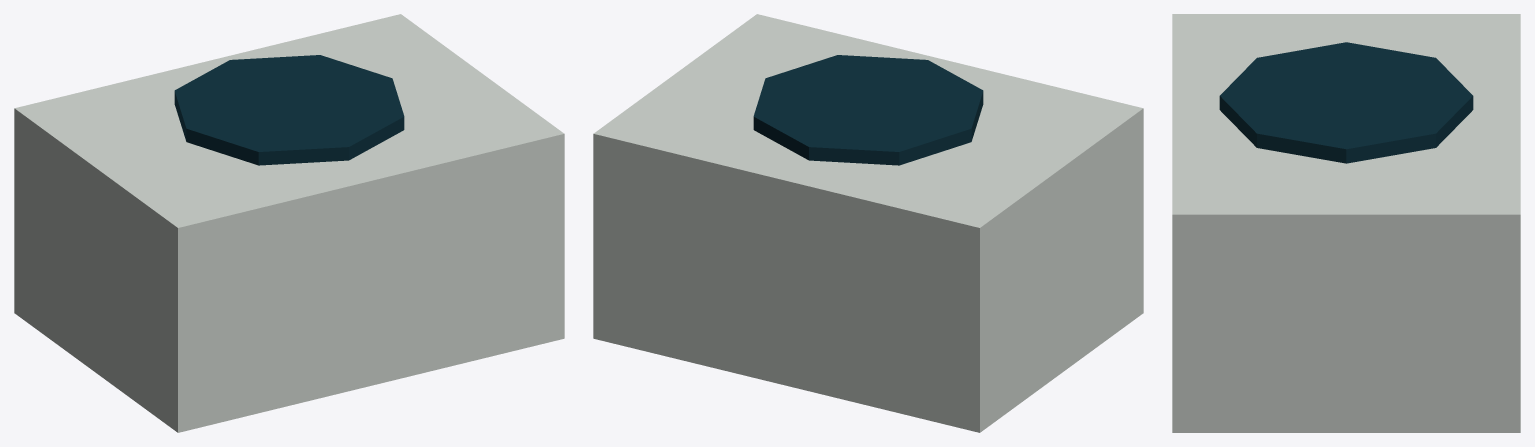
File: aircon.glb
The picture shows the model from 3 angles, left to right: view 1: azimuth 30°, elevation 25°; view 2: azimuth 150°, elevation 25°; view 3: azimuth 270°, elevation 25°; orthographic projection. The views are drawn at different scales.
Visible parts, largest first — view 1: aircon; view 2: aircon; view 3: aircon.
Part boxes in pixels (x1,y1,x2,y2): aircon: (14, 14, 564, 432); aircon: (593, 14, 1143, 432); aircon: (1172, 14, 1520, 432).
Bounding box in the file's own units: 1.5 × 0.825 × 1.1.
